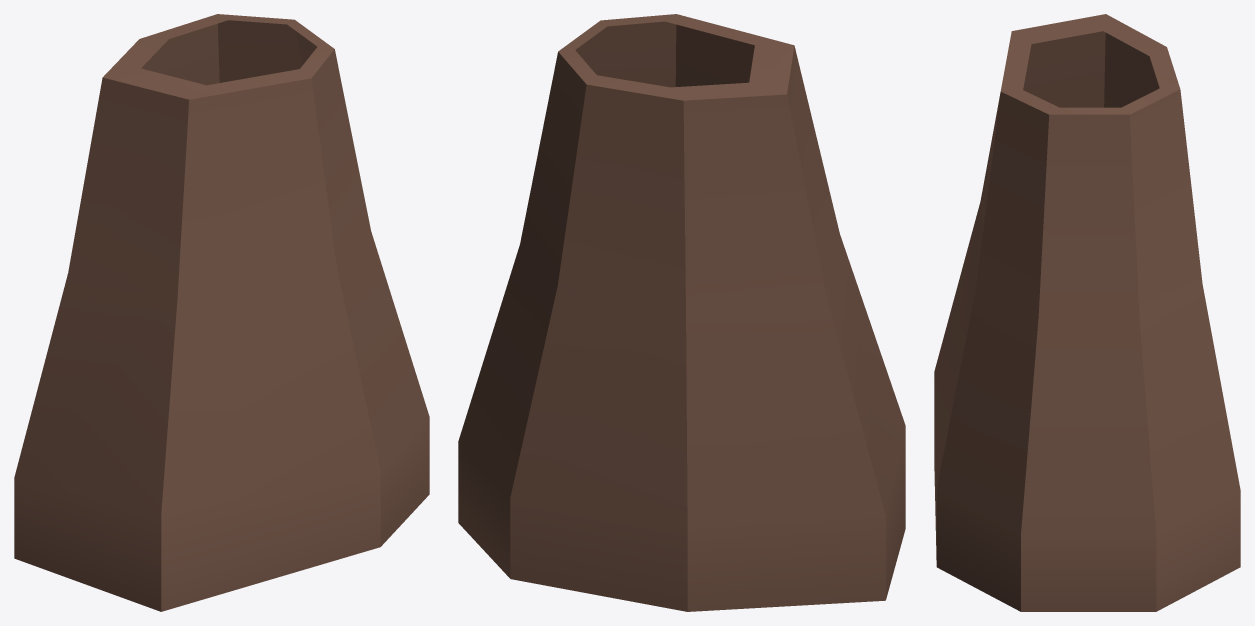
The model's file is Trunk.fbx.
3 views of the same model, side by side, from view 1: azimuth 30°, elevation 25°; view 2: azimuth 150°, elevation 25°; view 3: azimuth 270°, elevation 25° (orthographic). The views are drawn at different scales.
Visible parts, largest first — view 1: Trunk; view 2: Trunk; view 3: Trunk.
Boxes of the visible parts, x1,y1,x2,y2 form: Trunk: [14, 14, 429, 611]; Trunk: [458, 14, 905, 611]; Trunk: [934, 14, 1240, 611].
Bounding box in the file's own units: 2.04 × 2.43 × 1.43.
